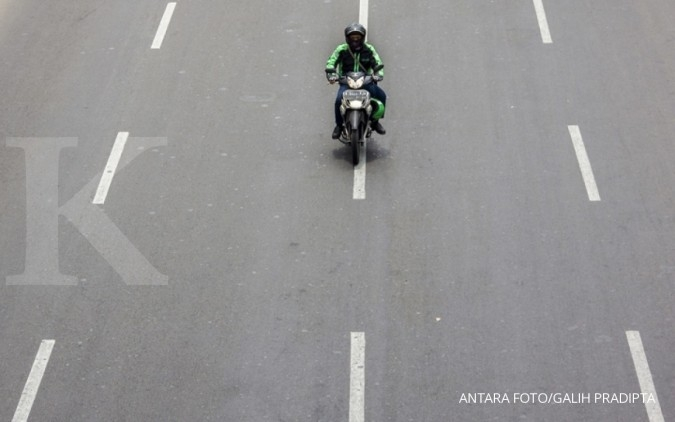motorbike: (328, 23, 390, 170)
